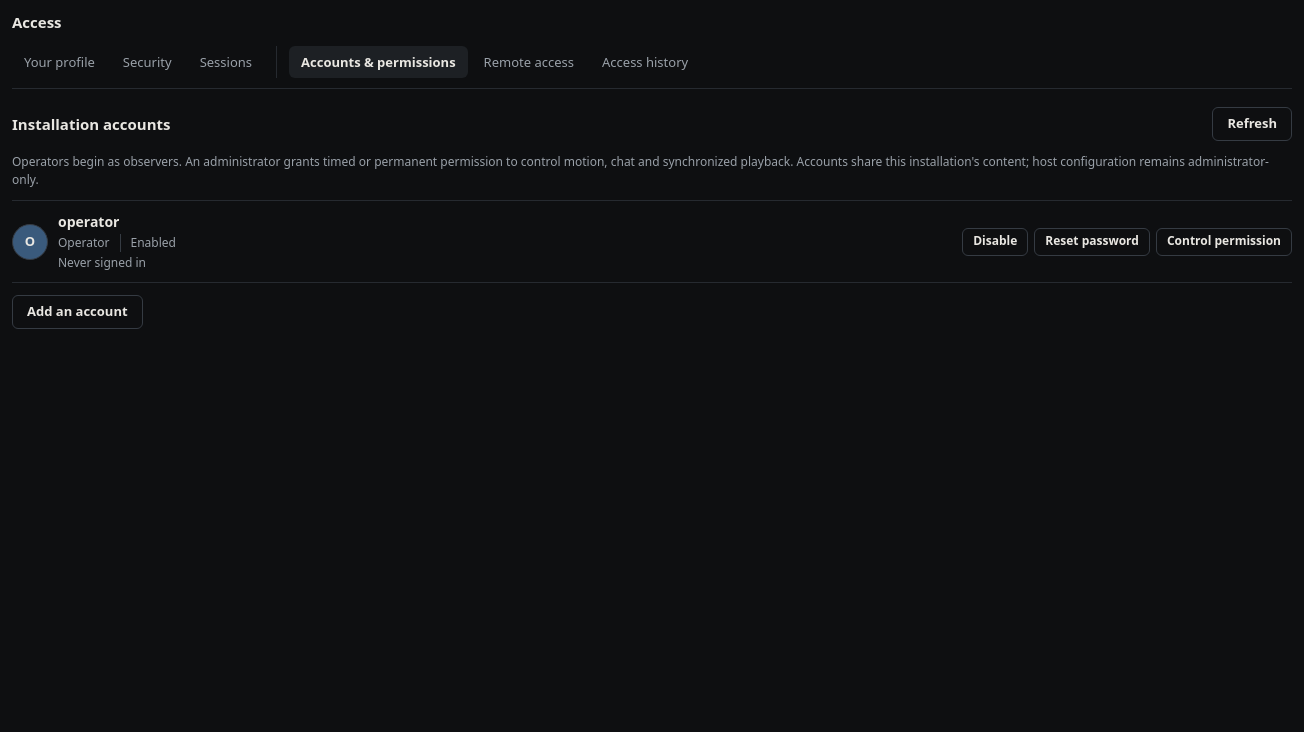
Scenario: account settings task navigation › creates remote-only accounts as scoped operators without automatically granting control
Check: the text "operator" is shown, box [58,212,119,231]
Click the button "Add an account": (77, 312) [12,295,143,329]
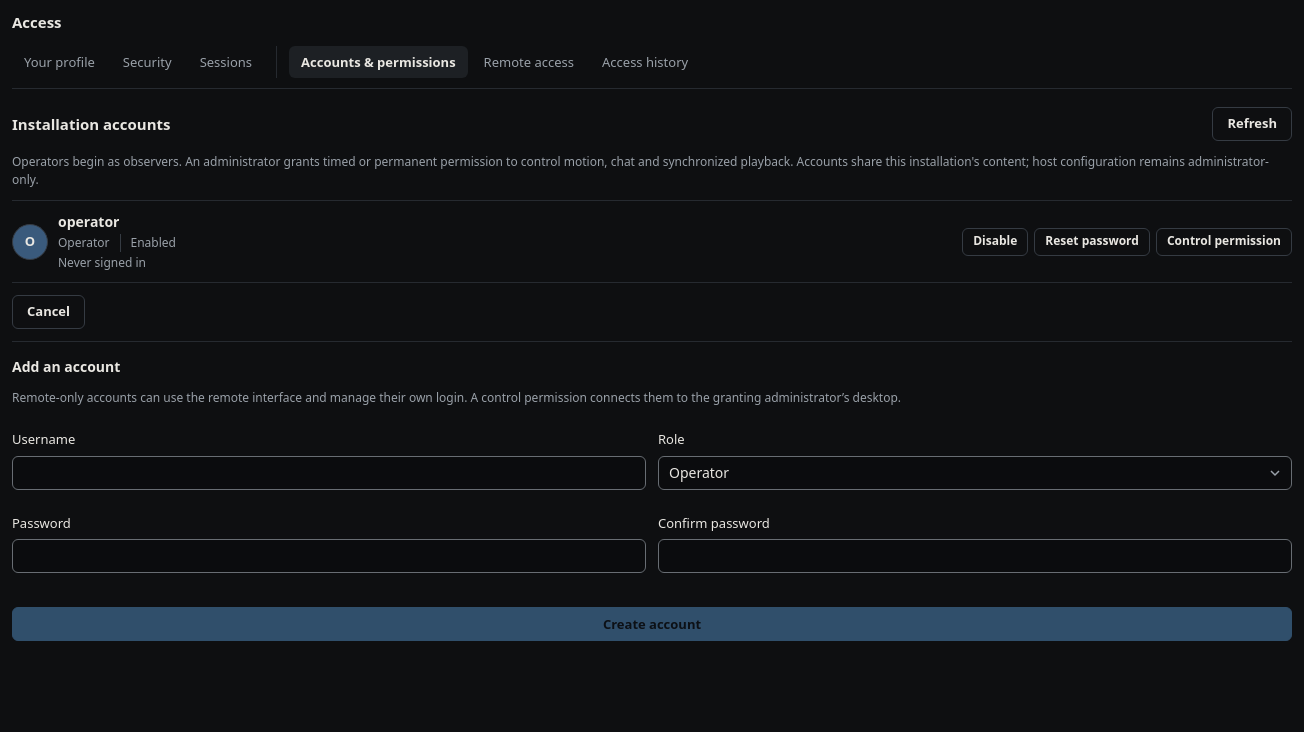
In the field labelled "Username": (329, 473) [12,456,646,490], type "remote-user"
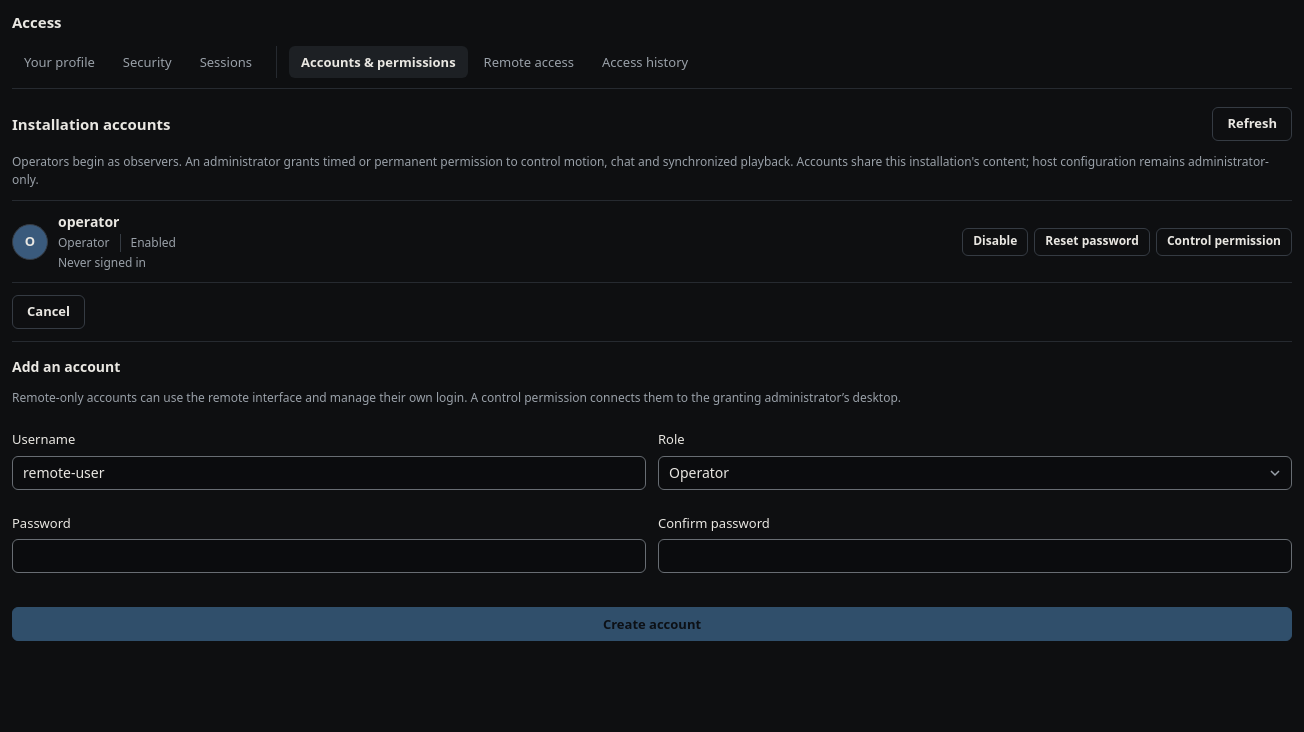
Select "Remote only" in the dropdown labelled "Role": (975, 473) [658,456,1292,490]
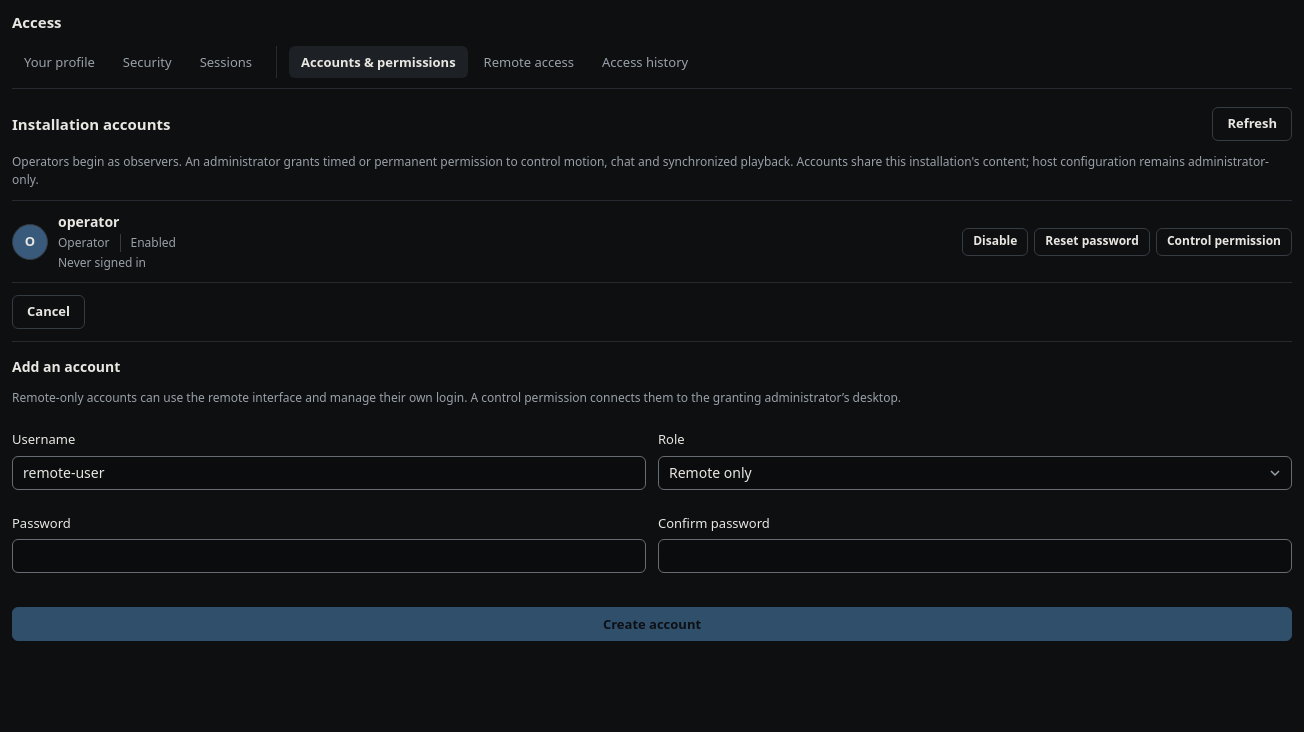
In the password field labelled "Password": (329, 556) [12,539,646,573], type "synthetic remote password"
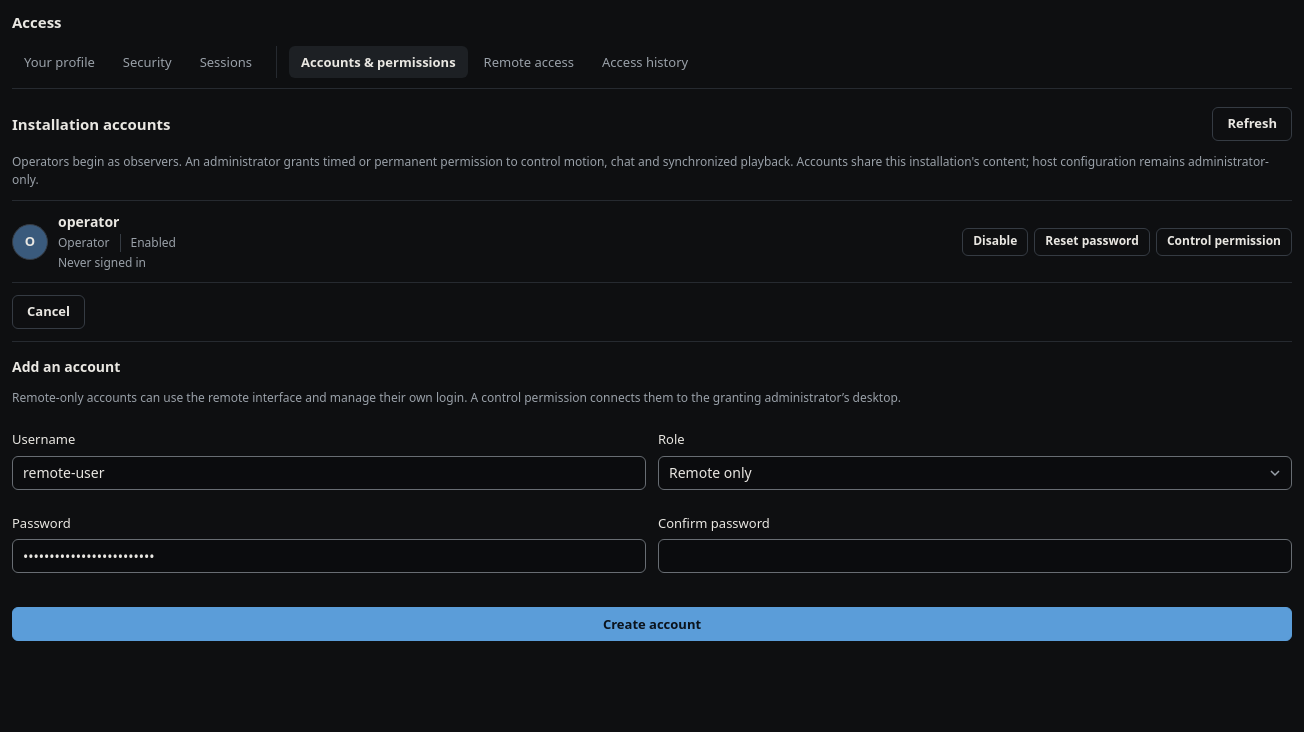
In the password field labelled "Confirm password": (975, 556) [658,539,1292,573], type "synthetic remote password"
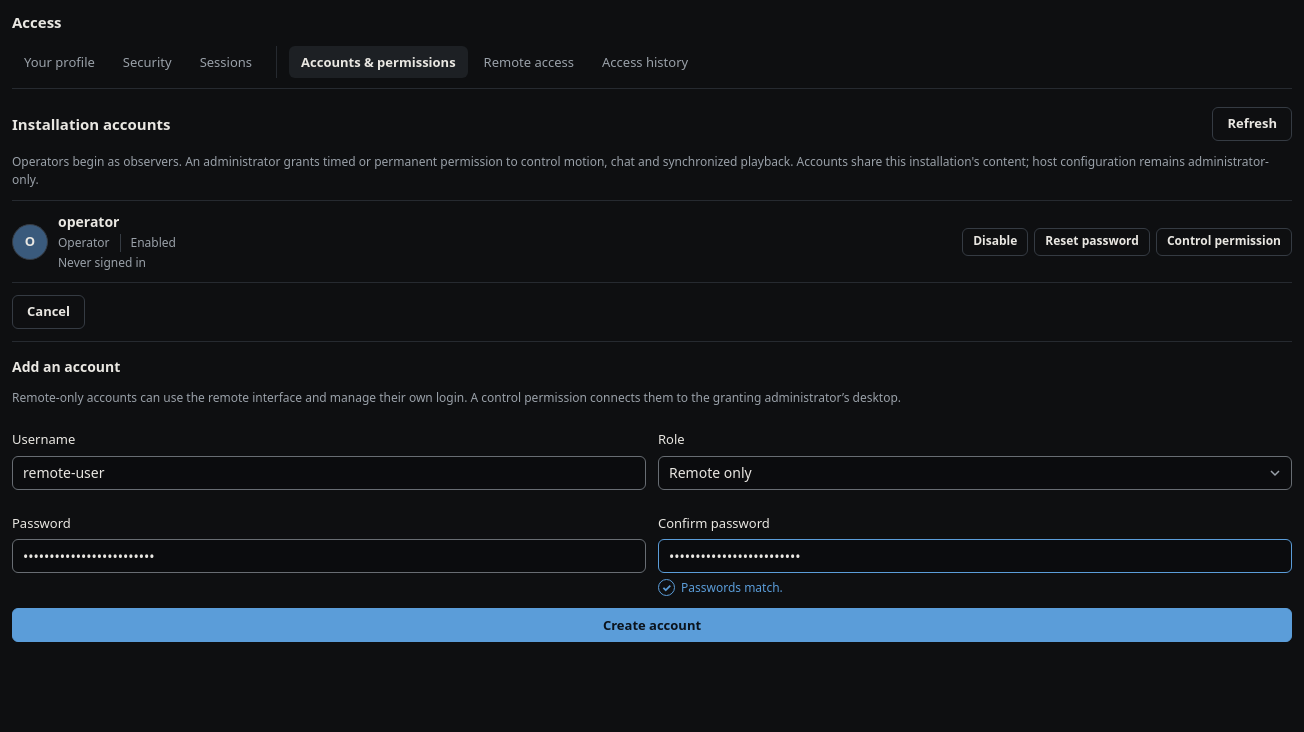
Click the button "Create account": (652, 625) [12,608,1292,642]
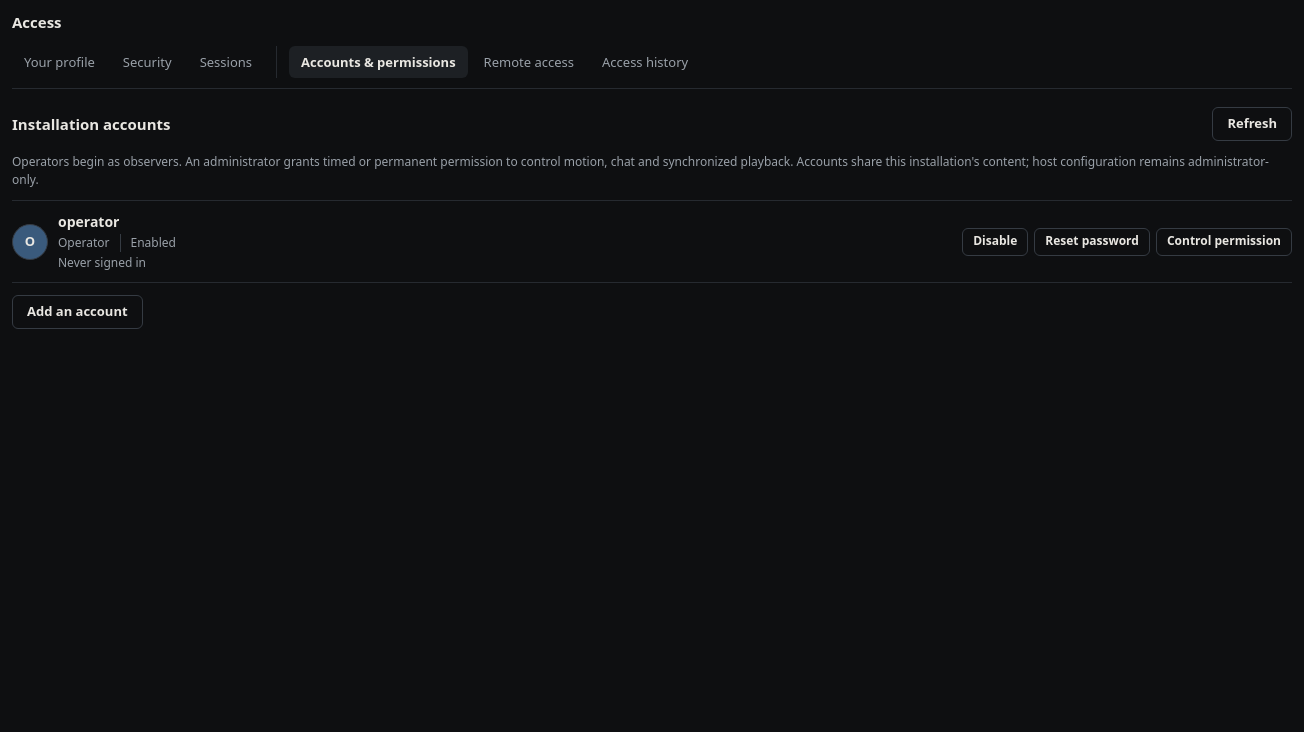
Check: the button "Add an account" is shown, box [12,295,143,329]
